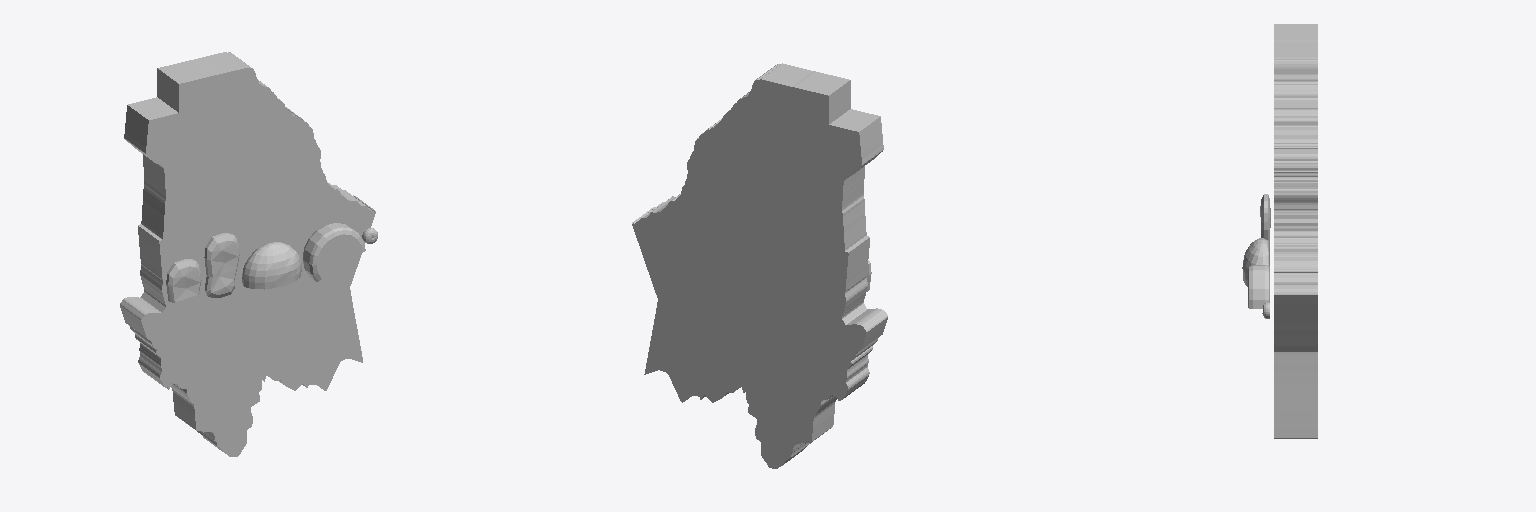
Rendered from Chihuahua.obj.
3 renders of one model, left to right at view 1: azimuth 30°, elevation 25°; view 2: azimuth 150°, elevation 25°; view 3: azimuth 270°, elevation 25°, orthographic.
Visible parts, largest first — view 1: group2 group_0_[number redacted], group1 group2 Line002, group1 group2 Cylinder001, group1 group2 Line001; view 2: group2 group_0_[number redacted]; view 3: group2 group_0_[number redacted], group1 group2 Line002, group1 group2 Cylinder001.
Boxes of the visible parts, box(x1,y1,x2,y2) form: group2 group_0_[number redacted]: box(120, 52, 375, 456); group1 group2 Line002: box(204, 233, 301, 297); group1 group2 Cylinder001: box(303, 223, 365, 281); group1 group2 Line001: box(166, 259, 201, 302); group2 group_0_[number redacted]: box(632, 63, 887, 468); group2 group_0_[number redacted]: box(1274, 24, 1317, 438); group1 group2 Line002: box(1242, 196, 1270, 286); group1 group2 Cylinder001: box(1248, 265, 1269, 308).
Size of the model in its own units: 15.49 by 24.37 by 4.29.